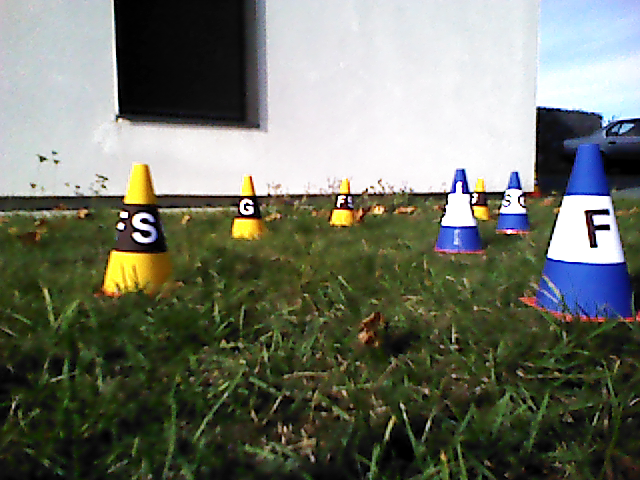bluecone: (546, 145, 634, 316), (439, 170, 481, 250), (497, 172, 530, 229)
yellowcone: (105, 164, 173, 290), (232, 176, 265, 238), (330, 179, 355, 224), (474, 179, 490, 219)
